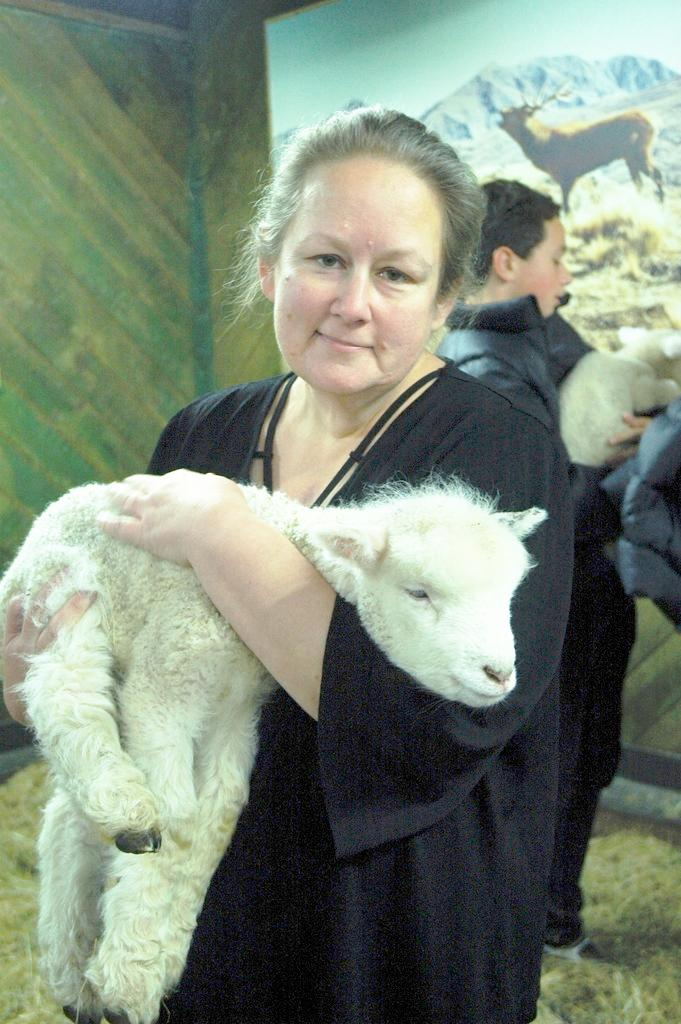Sheep: (0, 475, 548, 1023)
